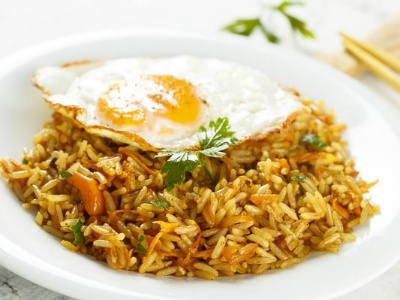nasigoreng: (24, 59, 367, 271)
